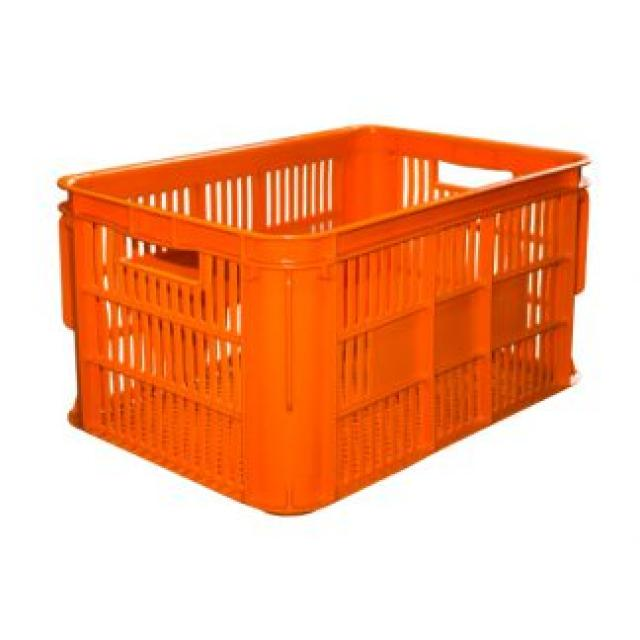basket: (46, 101, 626, 538)
